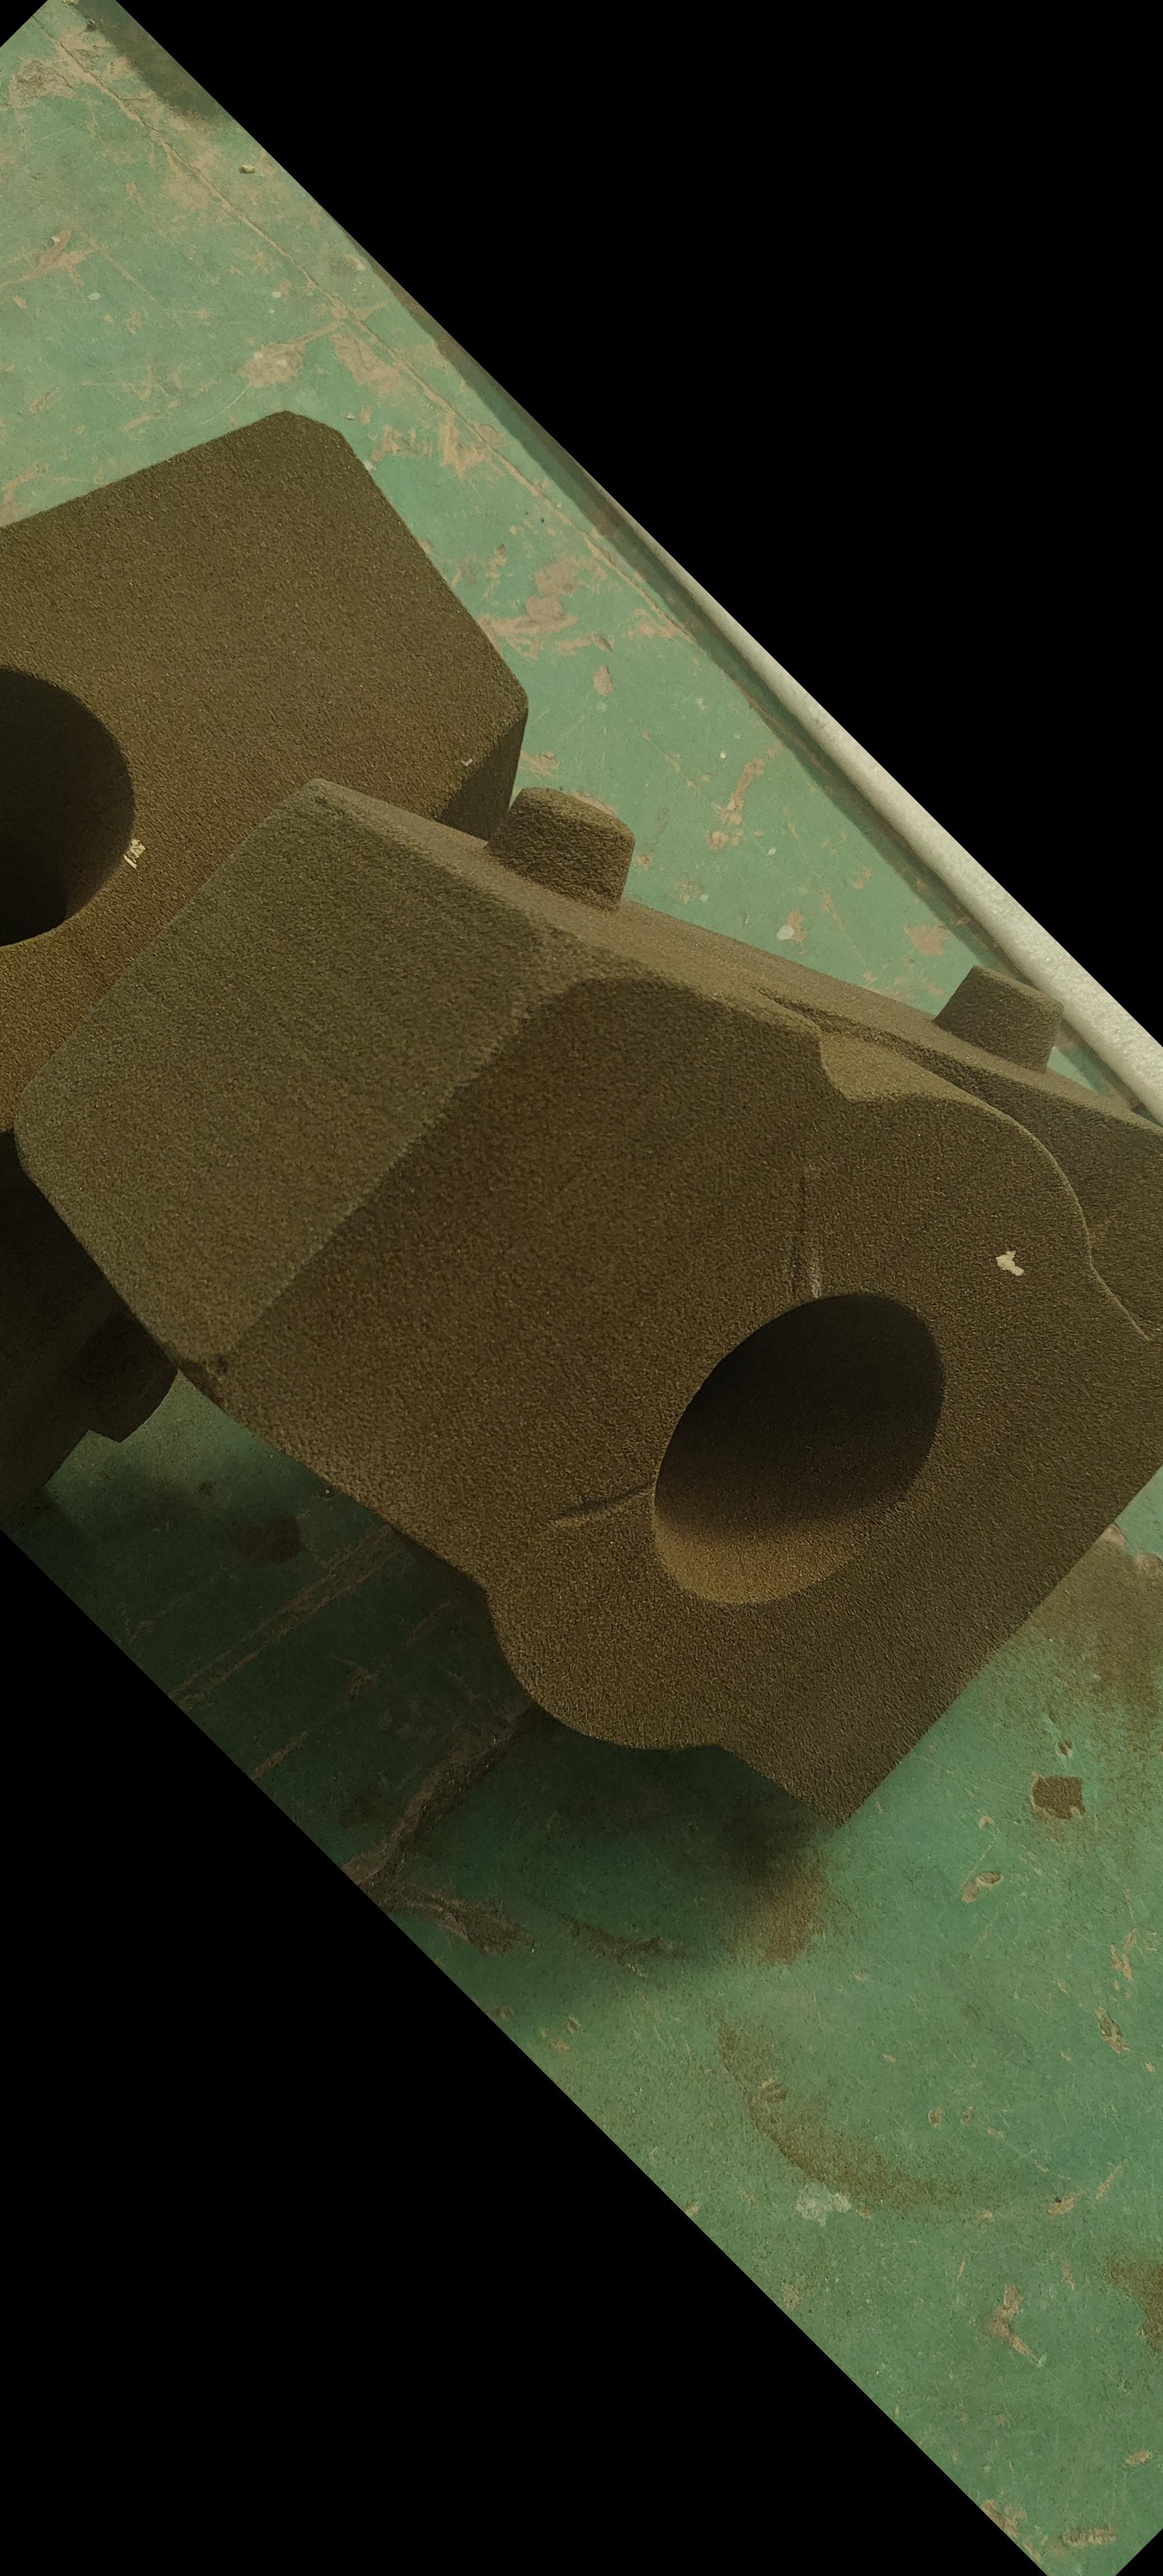pouring hole: (649, 1290, 946, 1615), (0, 659, 133, 961)
